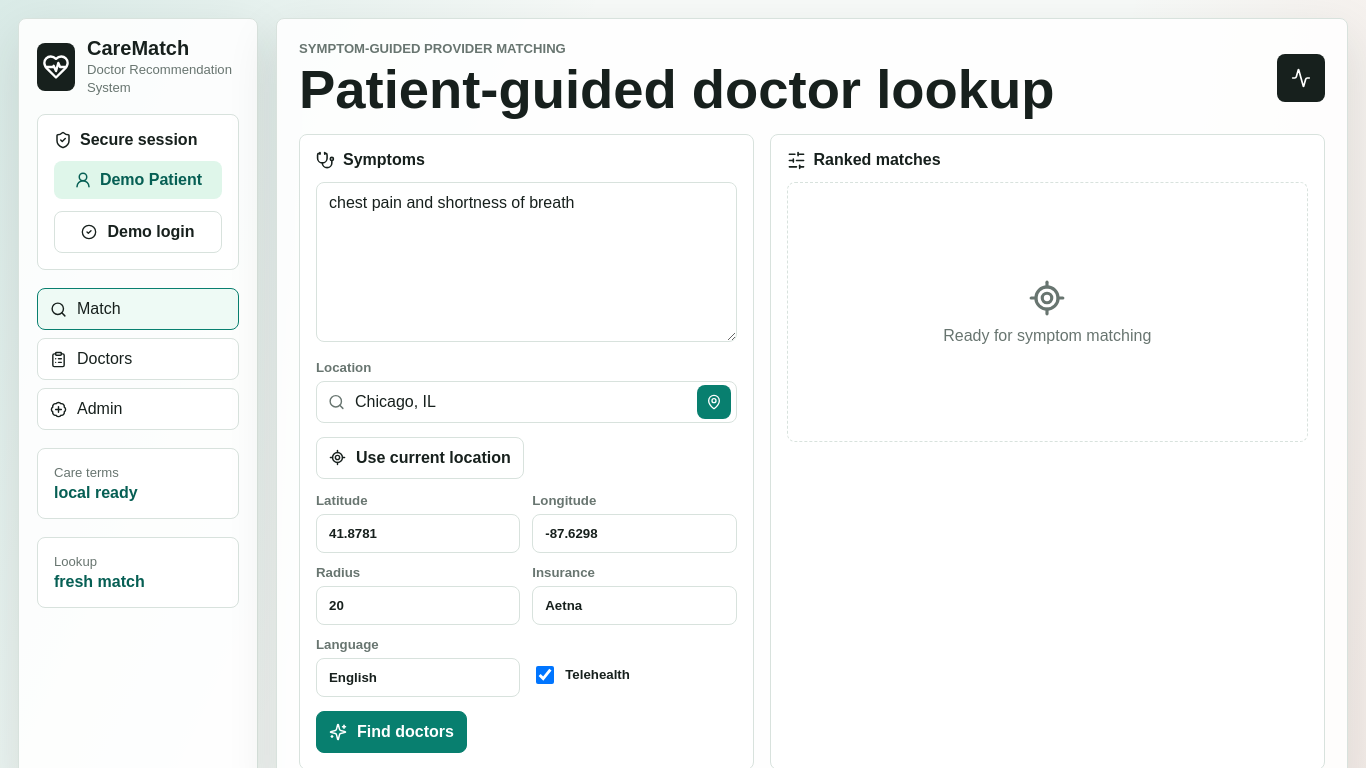
it: fills latitude and longitude from browser geolocation
The width and height of the screenshot is (1366, 768).
Click the button "Use current location". click: click(420, 458)
box: x1=316 y1=437 x2=524 y2=479
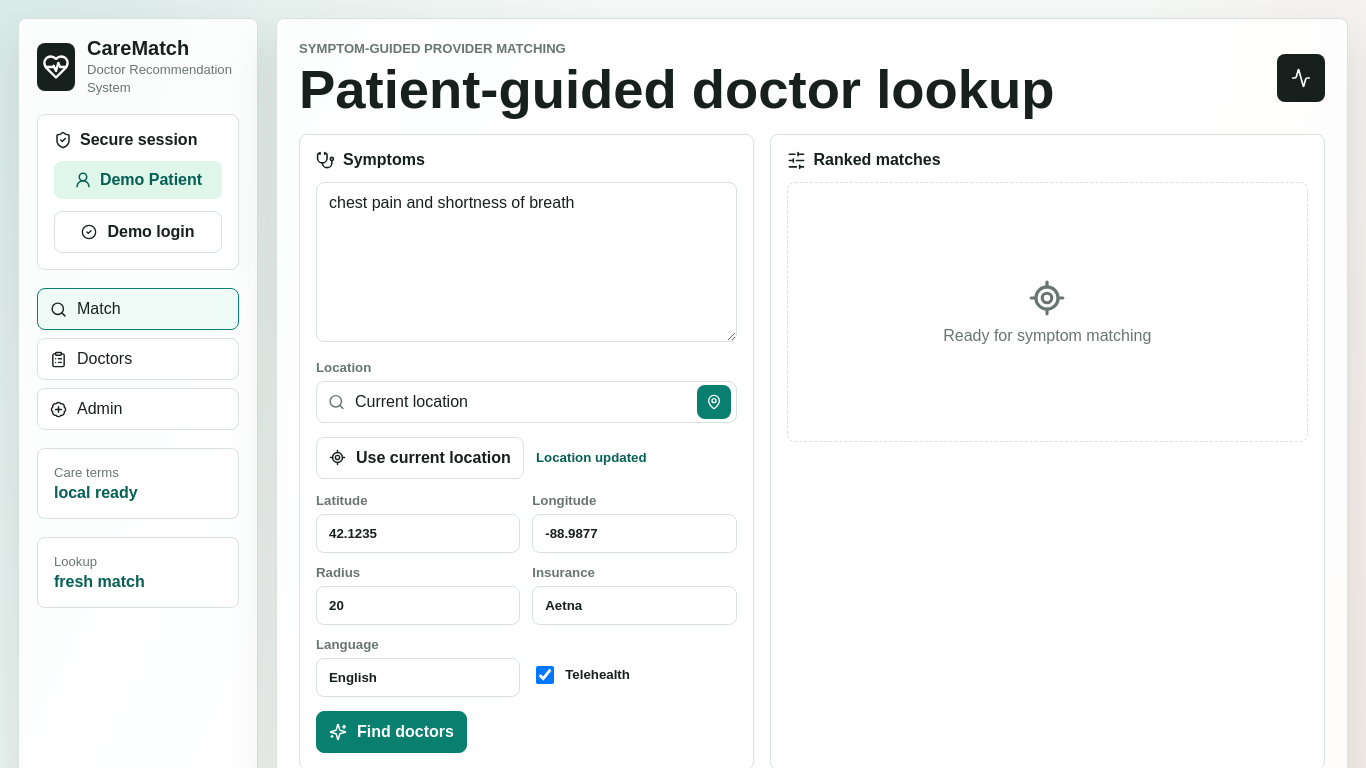
Check: the number field labelled "Latitude" holds "42.1235", box x1=316 y1=514 x2=520 y2=553
Check: the number field labelled "Longitude" holds "-88.9877", box x1=532 y1=514 x2=737 y2=553
Check: the text "Location updated" is shown, box x1=536 y1=450 x2=646 y2=465
